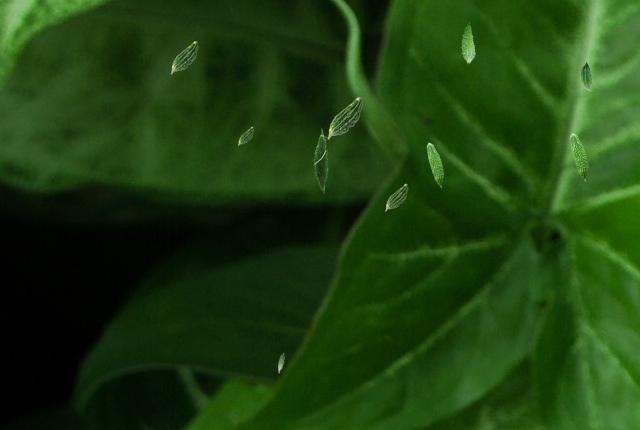ampalaya: (327, 97, 362, 139), (312, 127, 330, 193), (569, 133, 589, 181), (170, 40, 198, 74), (426, 142, 444, 188), (460, 22, 476, 64), (384, 183, 408, 211), (580, 61, 592, 91), (237, 126, 254, 146), (277, 352, 284, 373)
